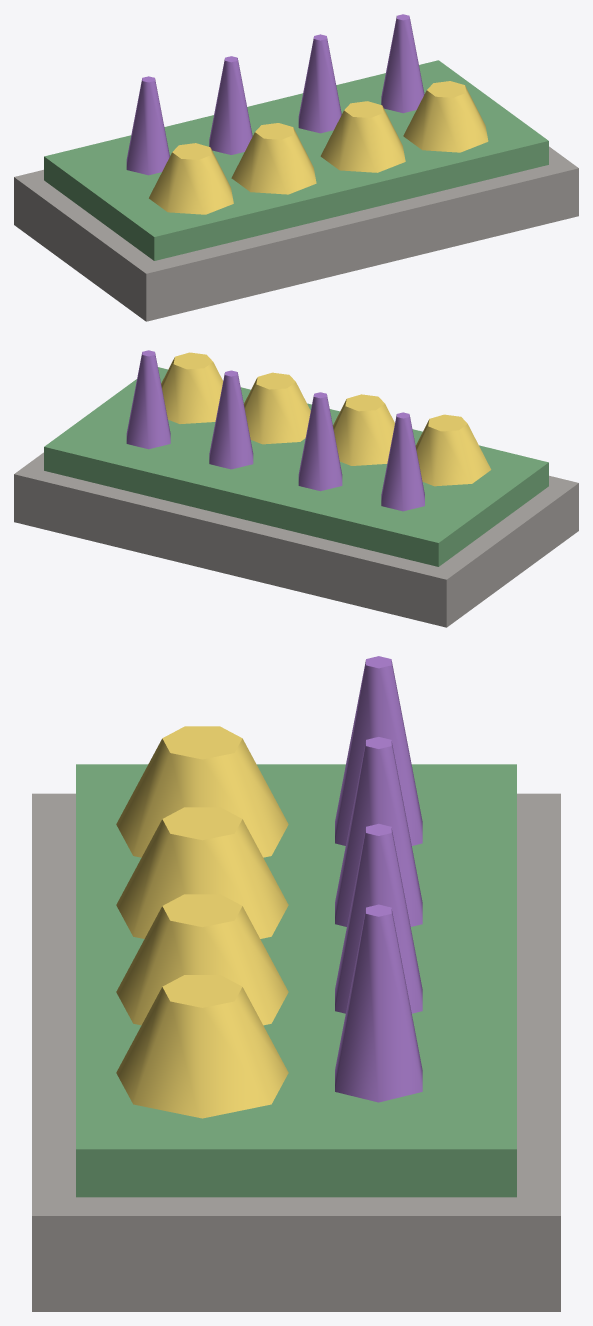
The model's file is flora_26_helichrysum_strawflower_salvia_bed.glb.
The picture shows the model from 3 angles, top to bottom: view 1: azimuth 30°, elevation 25°; view 2: azimuth 150°, elevation 25°; view 3: azimuth 270°, elevation 25°; orthographic projection. The views are drawn at different scales.
Visible parts, largest first — view 1: flora_26_helichrysum_strawflower_salvia_bed; view 2: flora_26_helichrysum_strawflower_salvia_bed; view 3: flora_26_helichrysum_strawflower_salvia_bed.
Part boxes in pixels (<box>): flora_26_helichrysum_strawflower_salvia_bed: <box>14,14,578,321</box>; flora_26_helichrysum_strawflower_salvia_bed: <box>14,350,578,627</box>; flora_26_helichrysum_strawflower_salvia_bed: <box>32,656,560,1311</box>.
Bounding box in the file's own units: 3.4 × 1.18 × 1.8.
